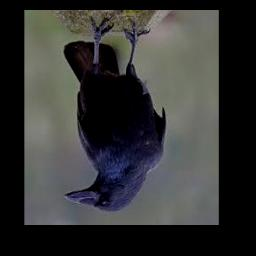Crow: (62, 15, 166, 212)
